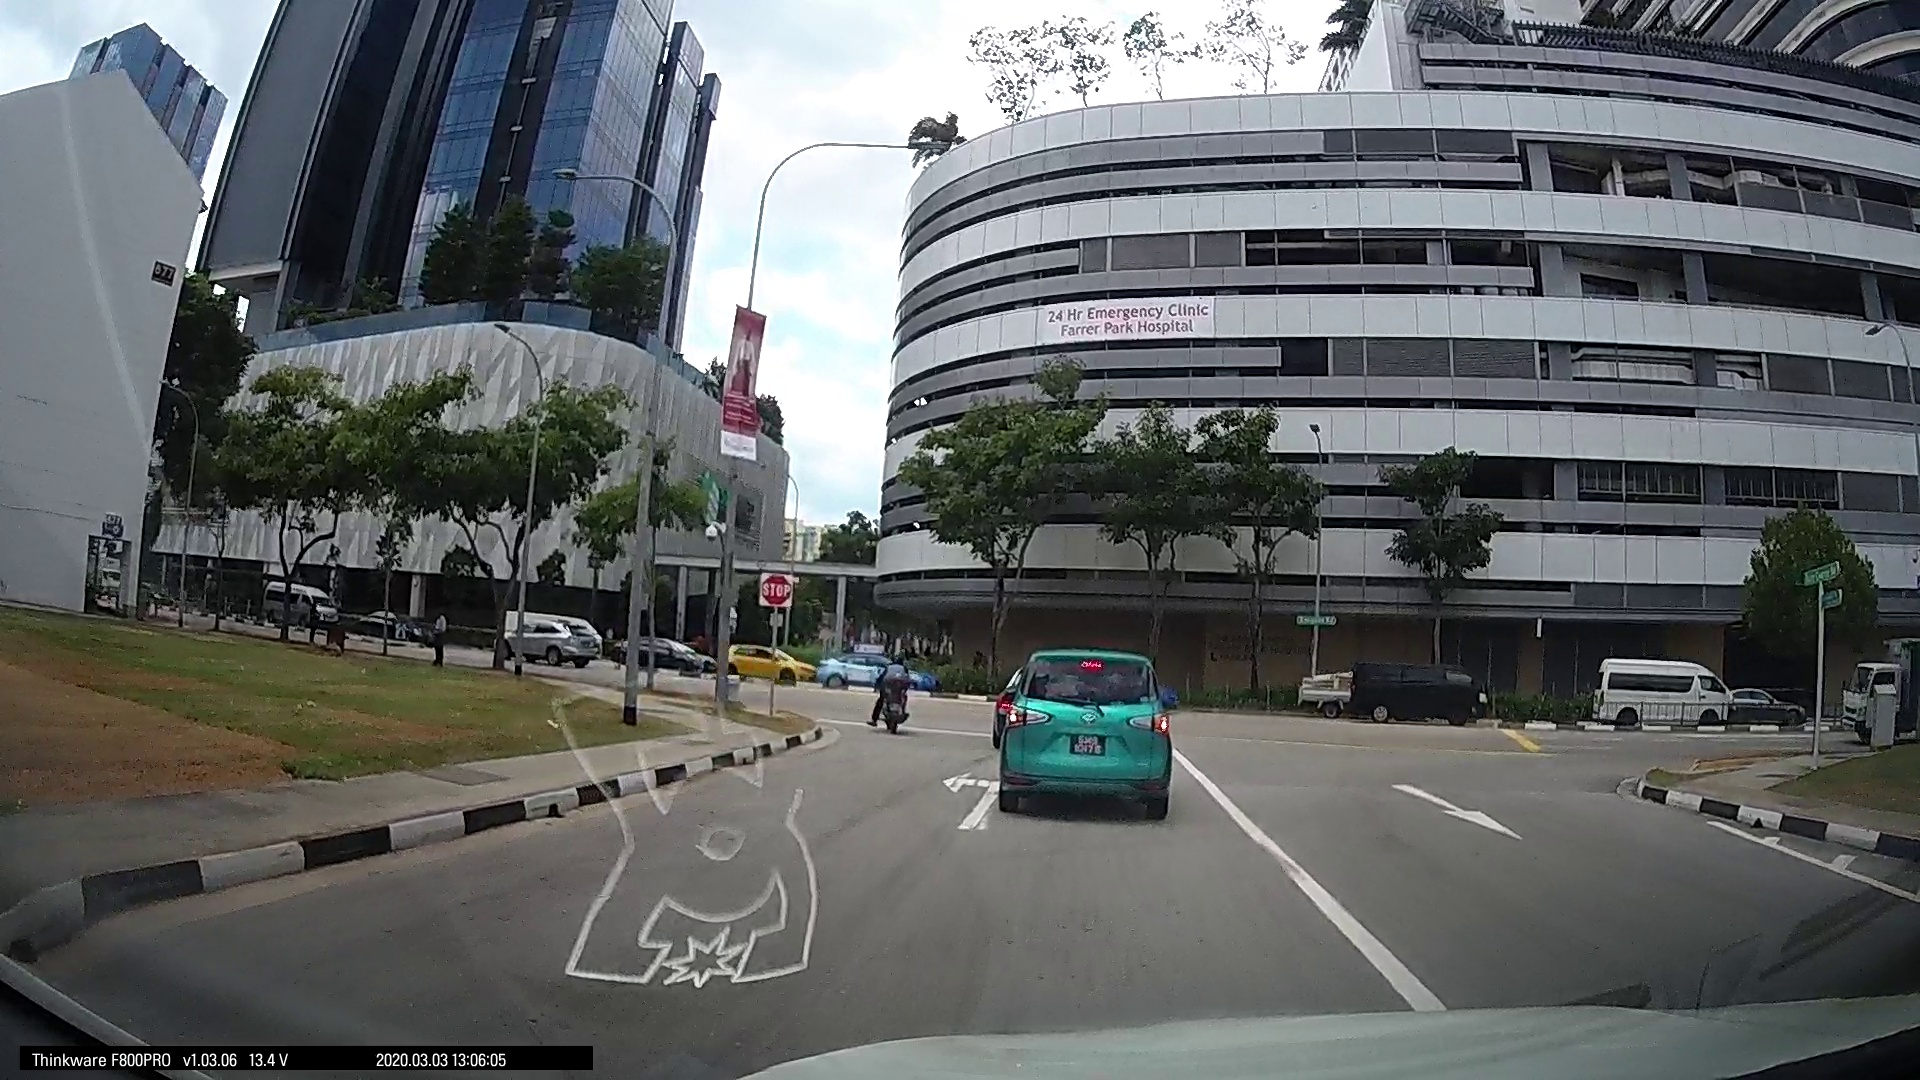Light Vehicle: (986, 638, 1176, 816), (1585, 655, 1735, 732), (1331, 653, 1478, 717), (491, 605, 607, 671), (709, 636, 818, 683), (608, 633, 716, 679)
